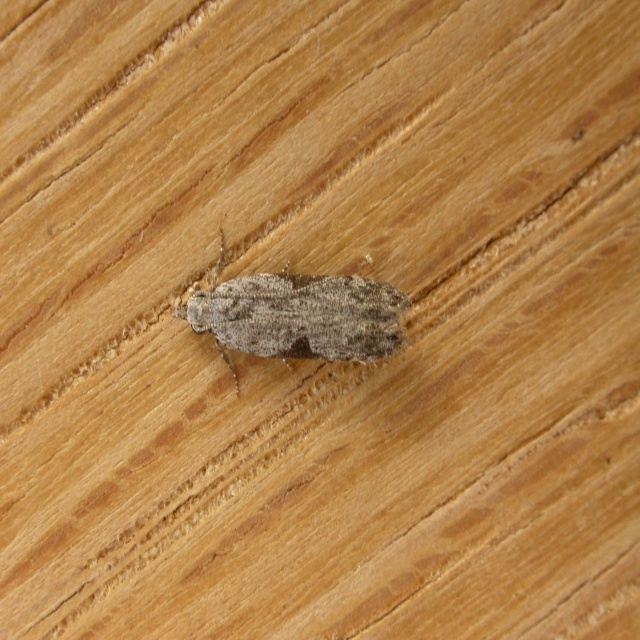Moths and butterflies: (168, 224, 420, 402)
